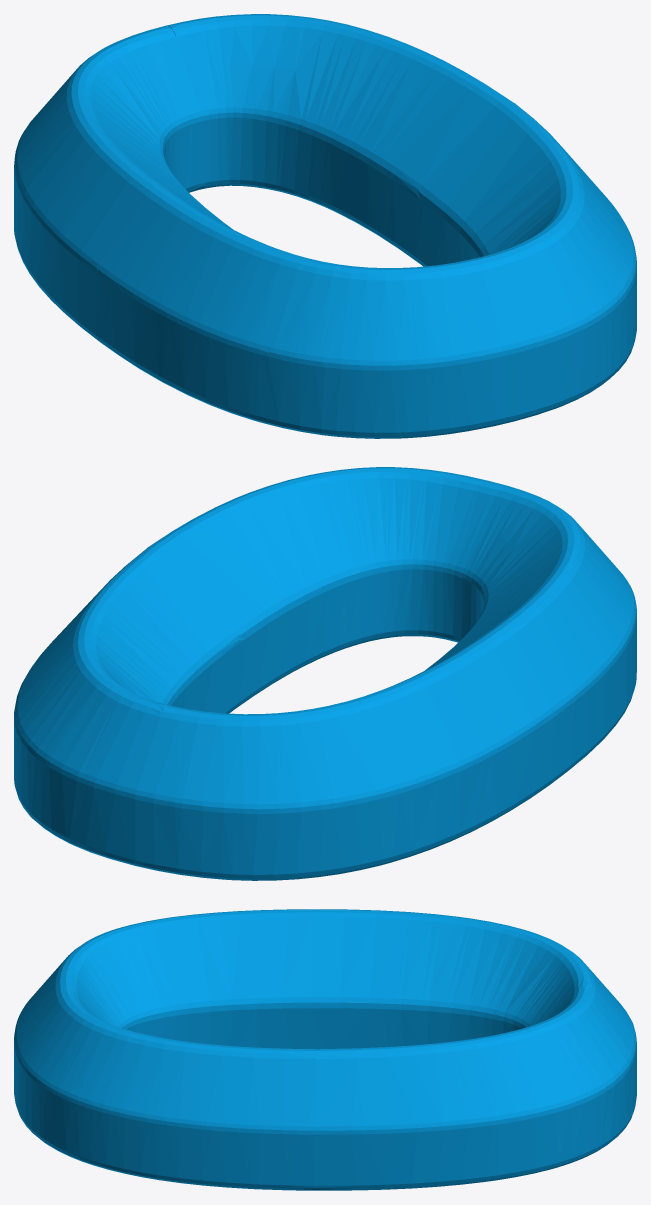
The picture shows the model from 3 angles, top to bottom: view 1: azimuth 30°, elevation 25°; view 2: azimuth 150°, elevation 25°; view 3: azimuth 270°, elevation 25°; orthographic projection. The views are drawn at different scales.
Size of the model in its own units: 0.0177 by 0.00537 by 0.0251.
